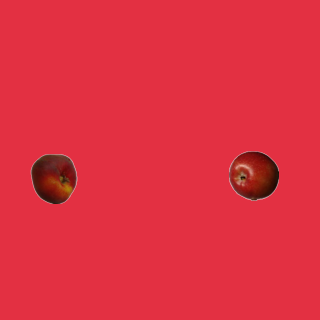Apple Braeburn: (228, 150, 278, 200)
Nectarine Flat: (28, 153, 78, 203)
